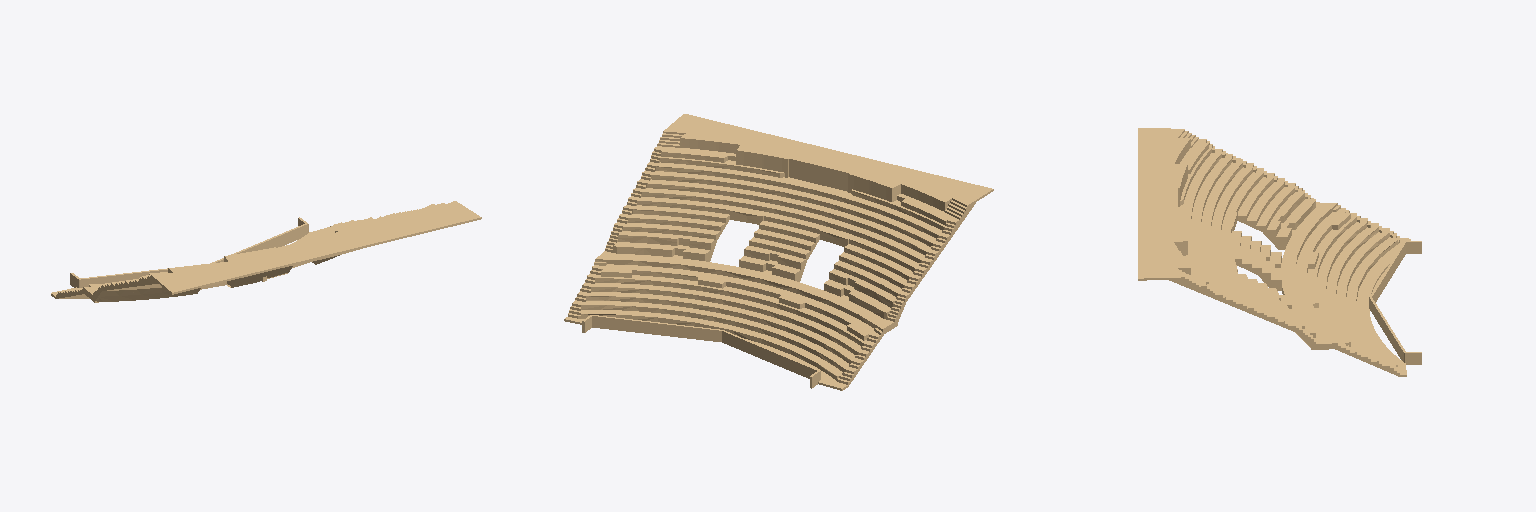
The model's file is UpperPlatform.obj.
3 renders of one model, left to right at view 1: azimuth 30°, elevation 25°; view 2: azimuth 150°, elevation 25°; view 3: azimuth 270°, elevation 25°, orthographic.
Bounding box in the file's own units: 33.99 × 11.1 × 26.99.